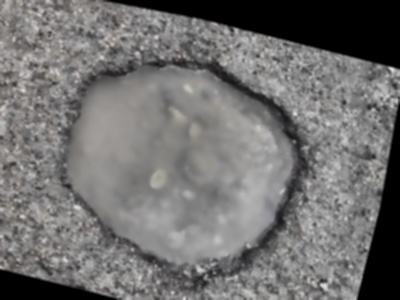pothole: (25, 19, 340, 300)
